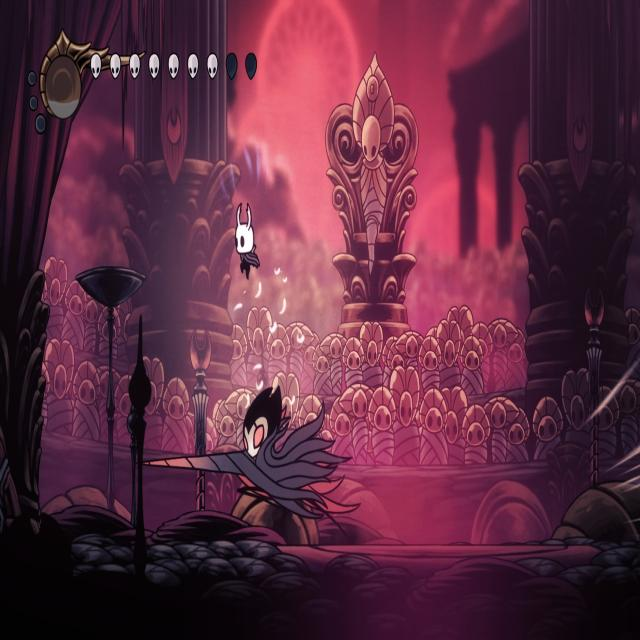Dive Dash: (141, 368, 362, 542)
Player: (233, 196, 260, 283)
